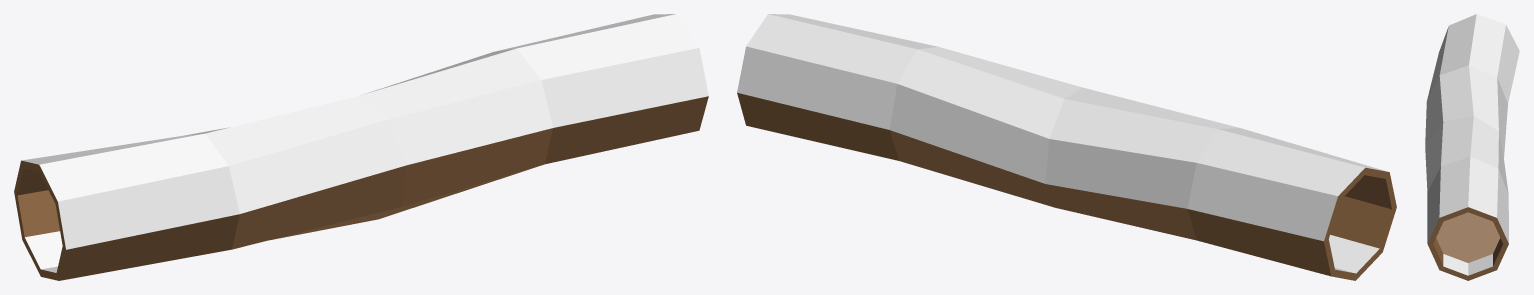
The model's file is Pine_Log_Snow_05.fbx.
The picture shows the model from 3 angles, left to right: view 1: azimuth 30°, elevation 25°; view 2: azimuth 150°, elevation 25°; view 3: azimuth 270°, elevation 25°; orthographic projection. The views are drawn at different scales.
Visible parts, largest first — view 1: Pine_Log_Snow_05; view 2: Pine_Log_Snow_05; view 3: Pine_Log_Snow_05.
Part boxes in pixels (<box>): Pine_Log_Snow_05: <box>14,14,708,280</box>; Pine_Log_Snow_05: <box>737,14,1396,280</box>; Pine_Log_Snow_05: <box>1425,14,1519,280</box>.
Size of the model in its own units: 222 by 42.03 by 45.51.
